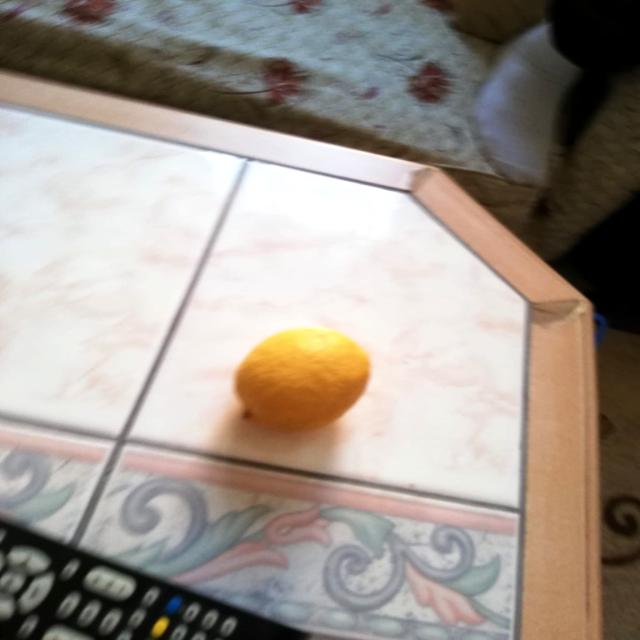lemon: (226, 325, 378, 437)
